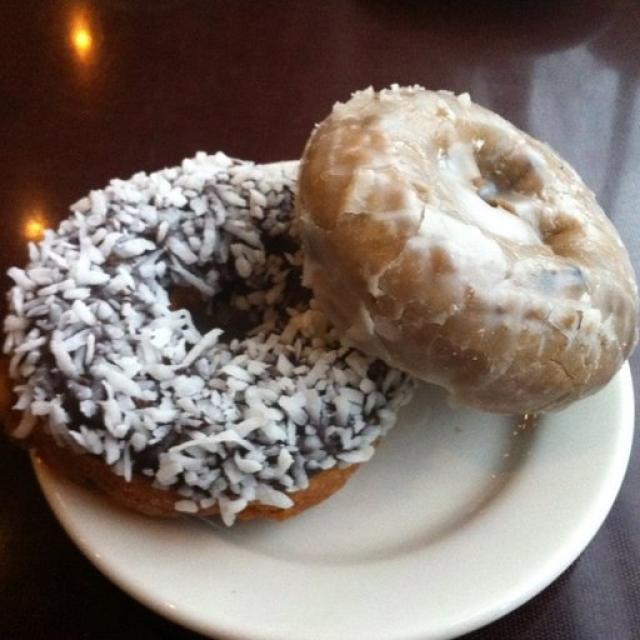Donuts: (22, 77, 640, 568)
